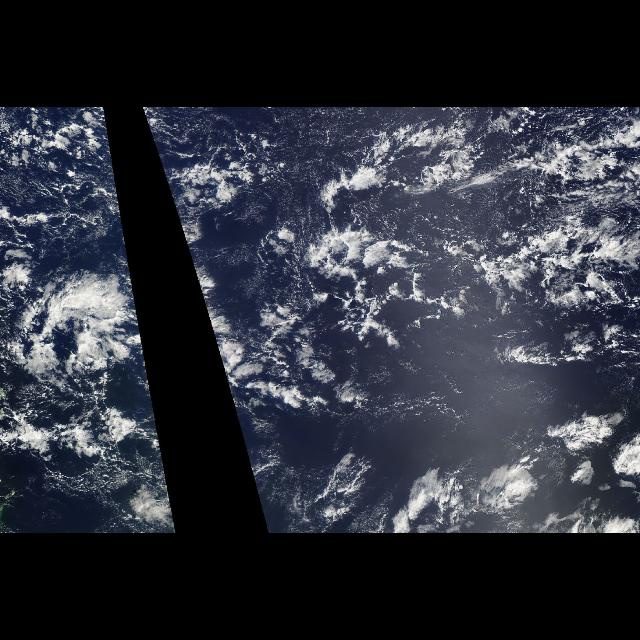Fish: (417, 212, 639, 336)
Flower: (378, 392, 636, 530)
Gravel: (492, 113, 632, 254)
Sugar: (204, 108, 376, 316)
